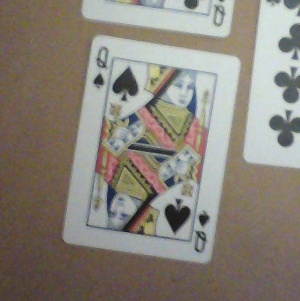card: (58, 36, 242, 265)
